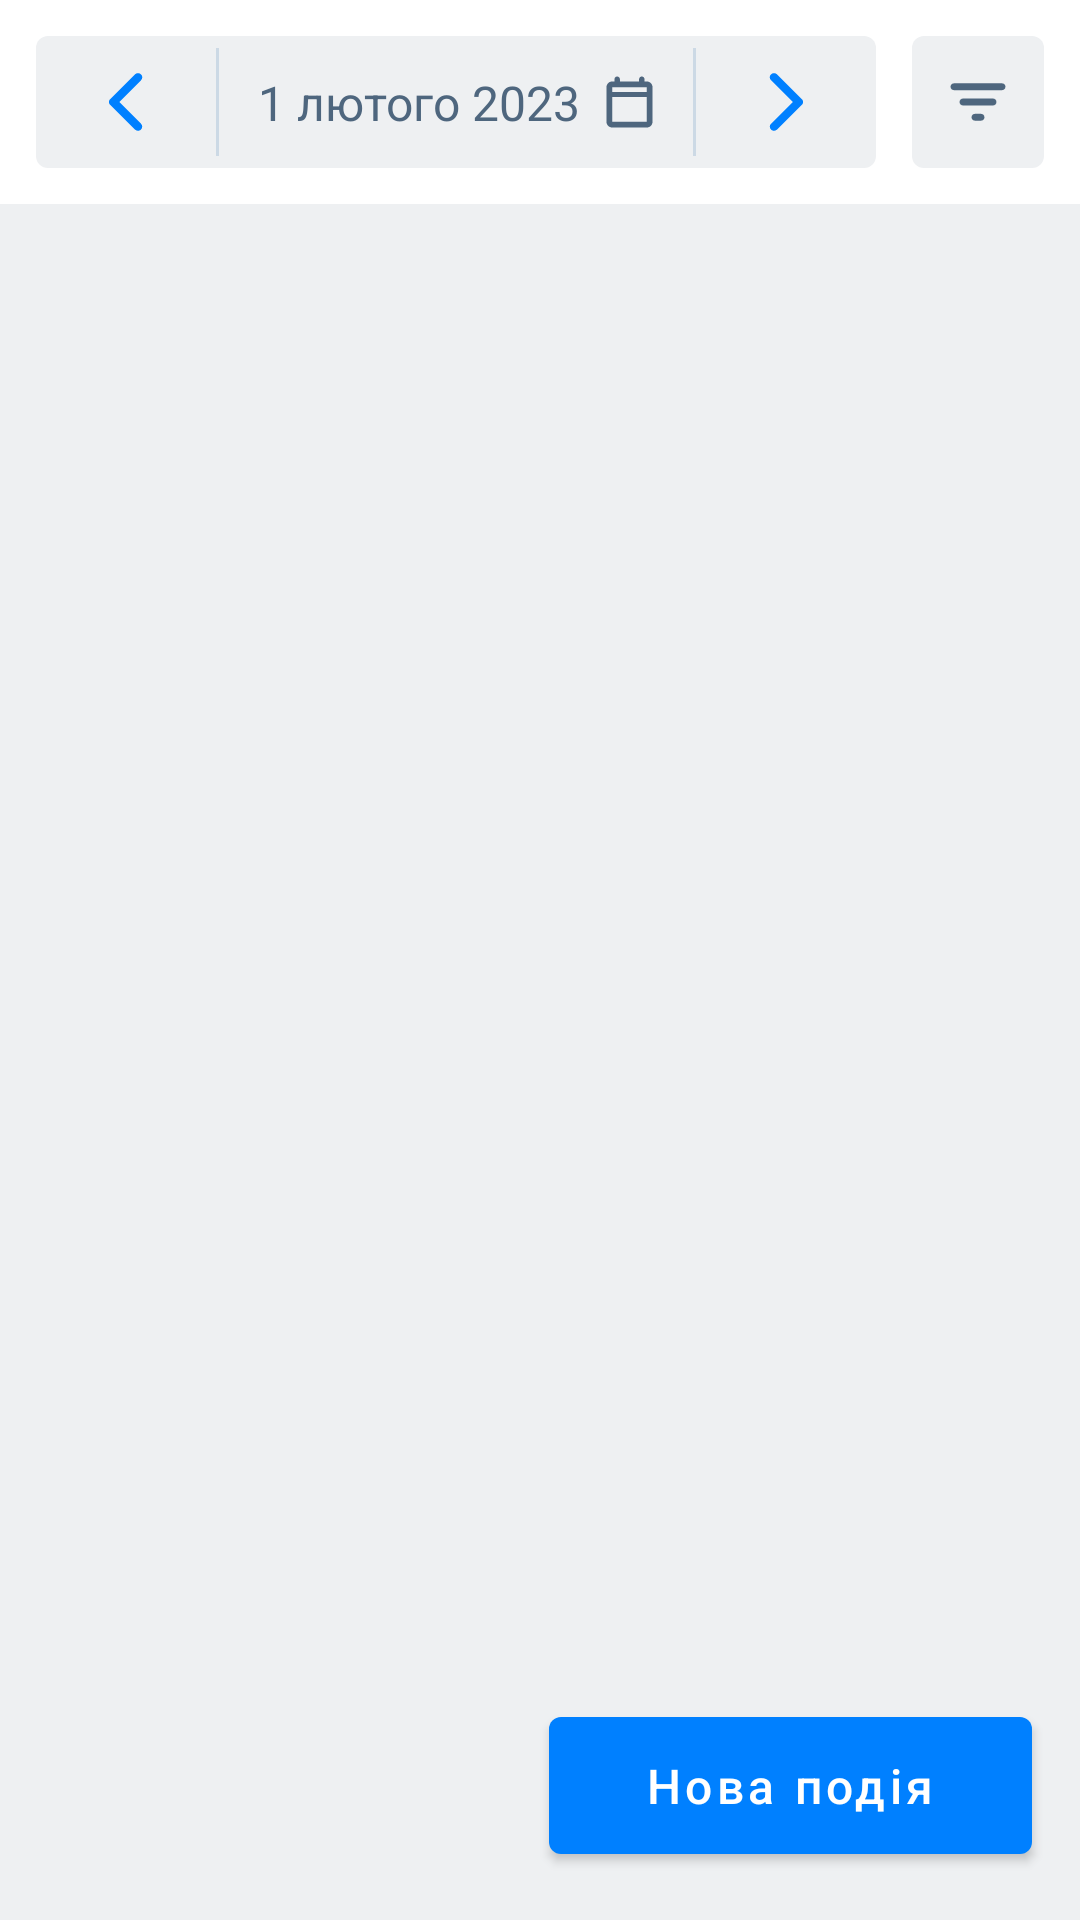

Screen size 1080 x 1920. Icon name, then its box in pixels as [x1, y1, x2, y2]:
calendar today: [606, 76, 653, 128]
filter: [912, 36, 1044, 168]
